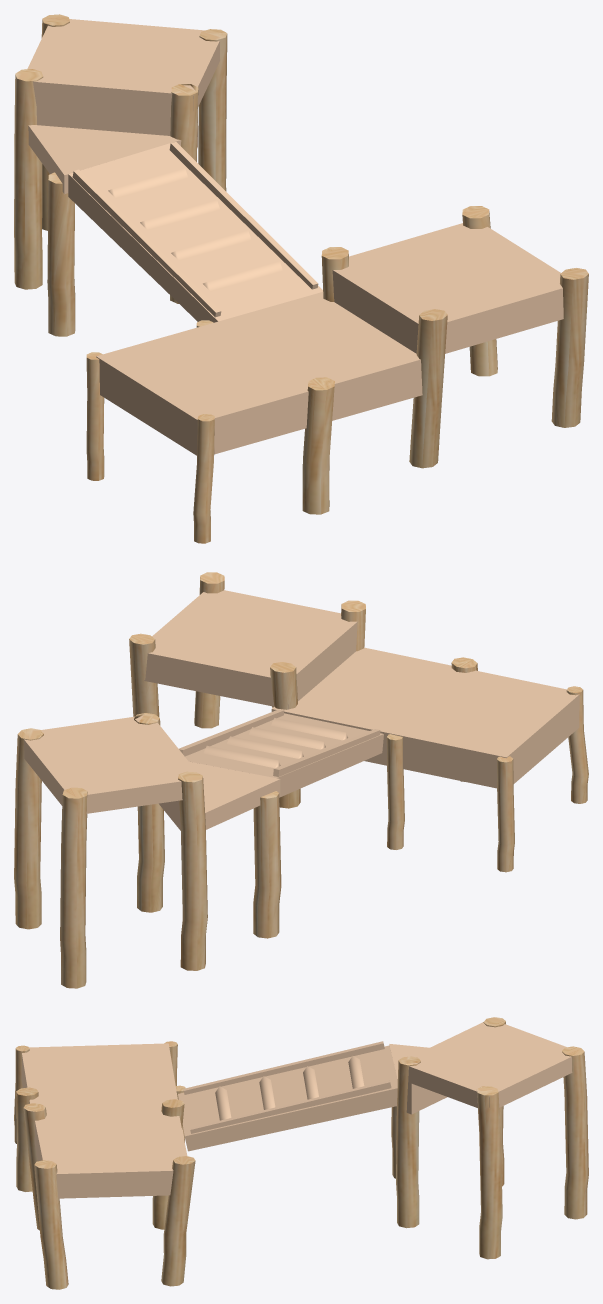
The model's file is PlaygroundSet_Bottom.fbx.
The picture shows the model from 3 angles, top to bottom: view 1: azimuth 30°, elevation 25°; view 2: azimuth 150°, elevation 25°; view 3: azimuth 270°, elevation 25°; orthographic projection. The views are drawn at different scales.
Parts seen in each view (by area): view 1: PlaygroundSet_Bottom1; view 2: PlaygroundSet_Bottom1; view 3: PlaygroundSet_Bottom1.
Boxes of the visible parts, x1,y1,x2,y2 form: PlaygroundSet_Bottom1: (14,14,588,543); PlaygroundSet_Bottom1: (14,572,588,988); PlaygroundSet_Bottom1: (14,1017,588,1289).
Size of the model in its own units: 284 by 140 by 426.
